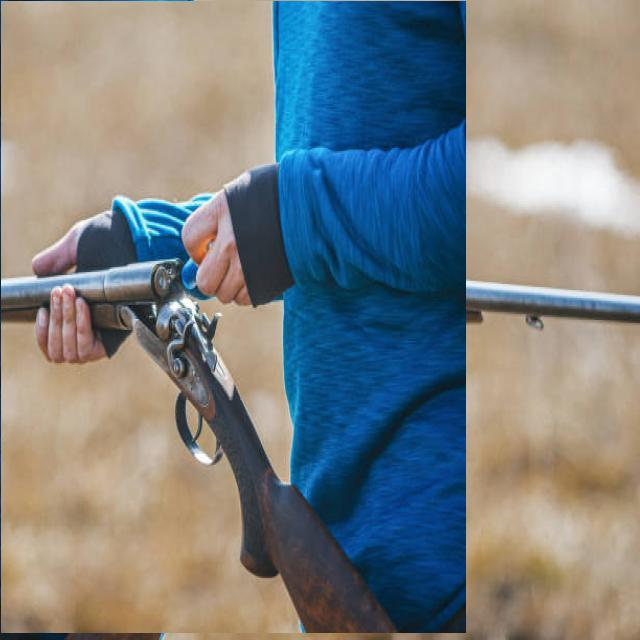weapon: (29, 216, 340, 444)
